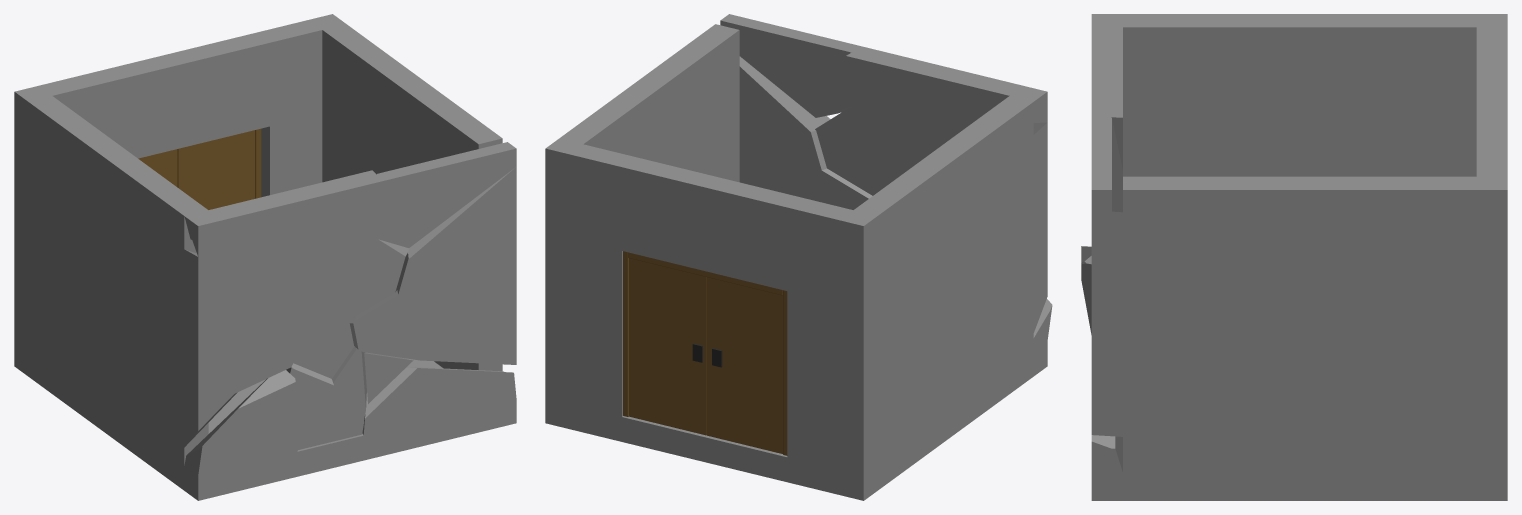
File: MSH_Room_DoubleDoor_Front_Damaged_01.fbx
3 renders of one model, left to right at view 1: azimuth 30°, elevation 25°; view 2: azimuth 150°, elevation 25°; view 3: azimuth 270°, elevation 25°, orthographic. The views are drawn at different scales.
Visible parts, largest first — view 1: MSH_Room_DoubleDoor_Front_Damaged_01, MSH_Door_Double_L002, MSH_Door_Double_R002; view 2: MSH_Room_DoubleDoor_Front_Damaged_01, MSH_Door_Double_L002, MSH_Door_Double_R002, MSH_DoorFrame_Double002; view 3: MSH_Room_DoubleDoor_Front_Damaged_01.
Boxes of the visible parts, box(x1,y1,x2,y2) form: MSH_Room_DoubleDoor_Front_Damaged_01: box(14, 14, 516, 500); MSH_Door_Double_L002: box(177, 130, 255, 209); MSH_Door_Double_R002: box(138, 149, 177, 187); MSH_Room_DoubleDoor_Front_Damaged_01: box(545, 14, 1052, 500); MSH_Door_Double_L002: box(629, 258, 706, 435); MSH_Door_Double_R002: box(706, 277, 782, 453); MSH_DoorFrame_Double002: box(623, 251, 787, 455); MSH_Room_DoubleDoor_Front_Damaged_01: box(1081, 14, 1507, 500).
Bounding box in the file's own units: 158 × 130 × 161.
